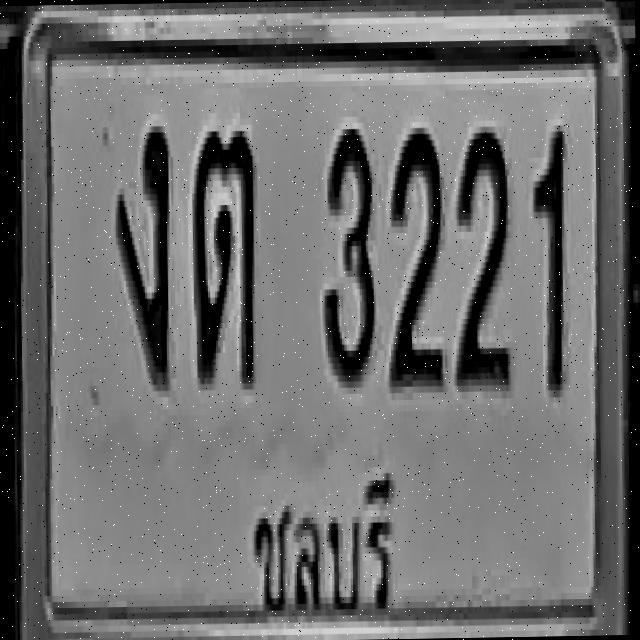1: (532, 122, 568, 394)
16NgorNgu: (114, 120, 172, 384)
2: (384, 124, 446, 390), (450, 126, 510, 391)
3: (320, 122, 376, 388)
30TorTao: (190, 127, 258, 387)
Chonburi: (249, 454, 401, 640)
